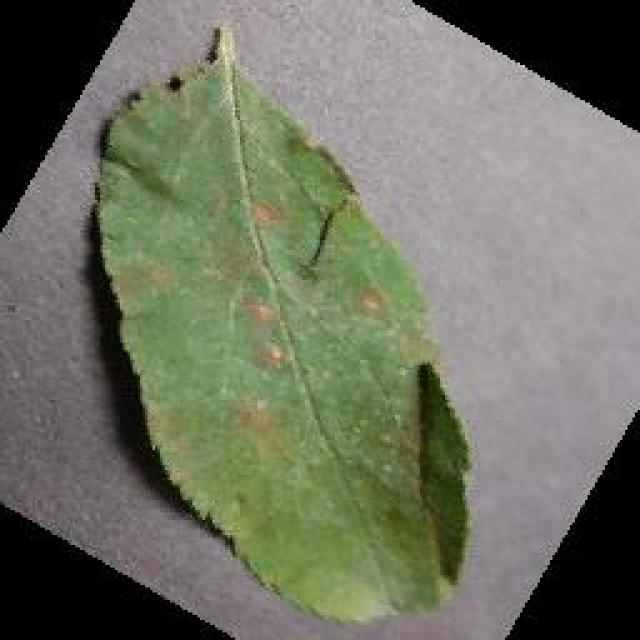apple healthy: (90, 23, 472, 625)
